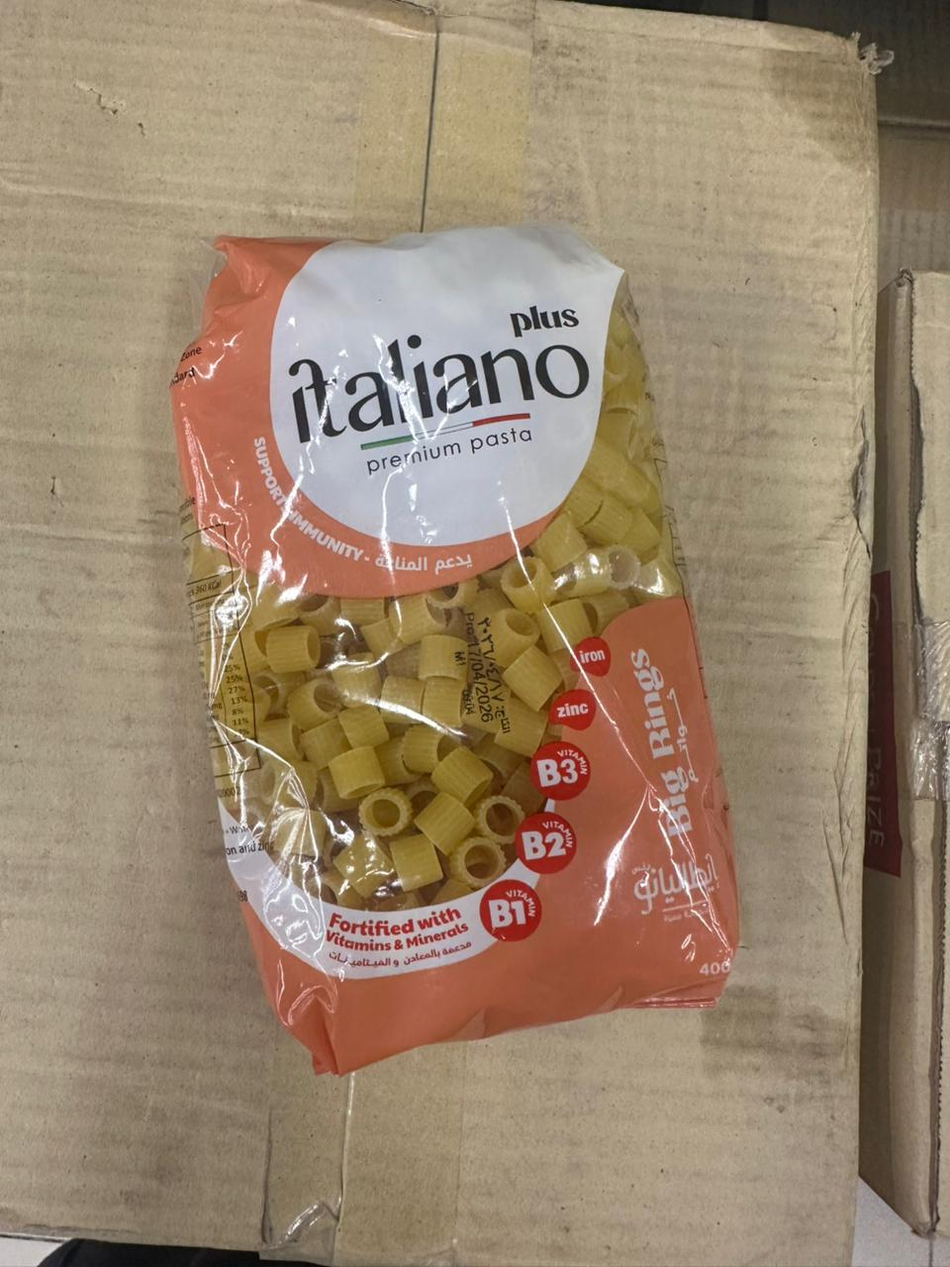pasta: (156, 258, 754, 1057)
